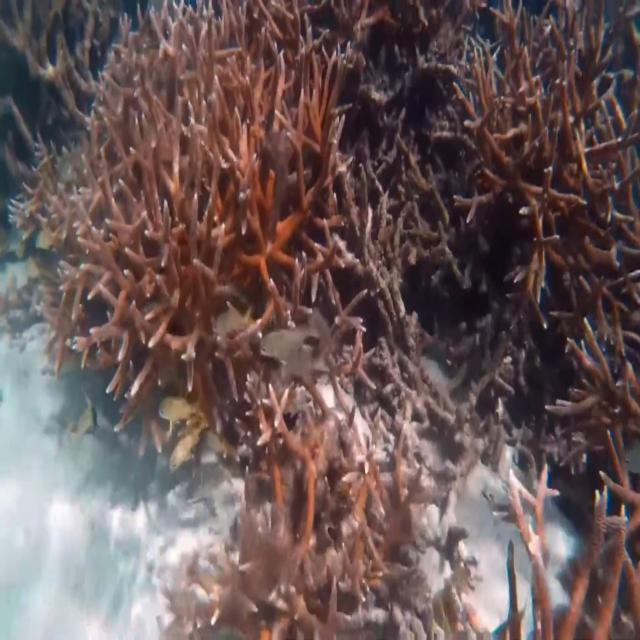Staghorn-Coral -Endangered-: (26, 2, 632, 614)
